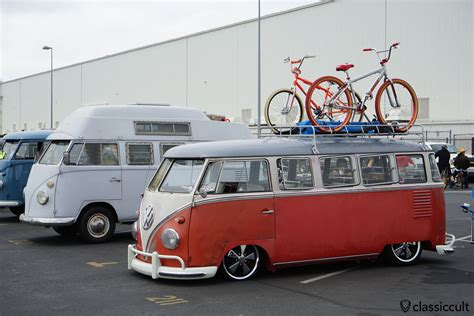bus: (127, 139, 446, 284), (26, 107, 254, 234)
